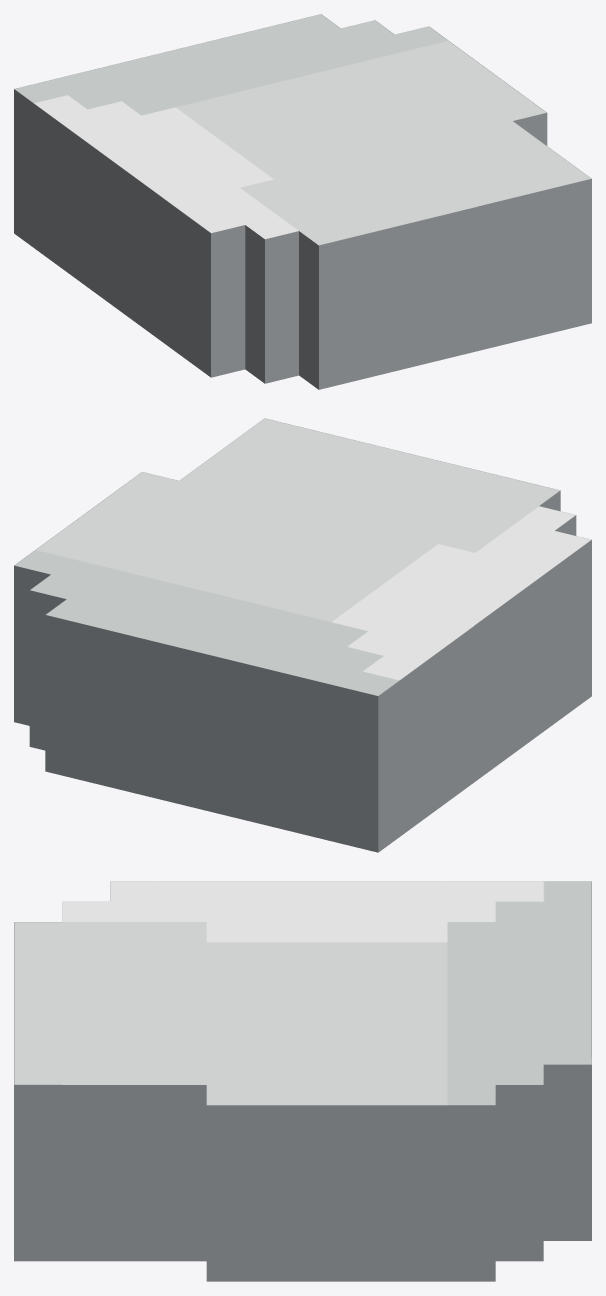
Rendered from salt_grain.glb.
3 renders of one model, top to bottom at view 1: azimuth 30°, elevation 25°; view 2: azimuth 150°, elevation 25°; view 3: azimuth 270°, elevation 25°, orthographic. The views are drawn at different scales.
Visible parts, largest first — view 1: salt_grain1-1; view 2: salt_grain1-1; view 3: salt_grain1-1.
Part boxes in pixels (x1,y1,x2,y2): salt_grain1-1: (14,14,591,389); salt_grain1-1: (14,418,591,852); salt_grain1-1: (14,881,591,1281).
Bounding box in the file's own units: 0.3438 × 0.1263 × 0.375.
2 materials, 1 textured.
